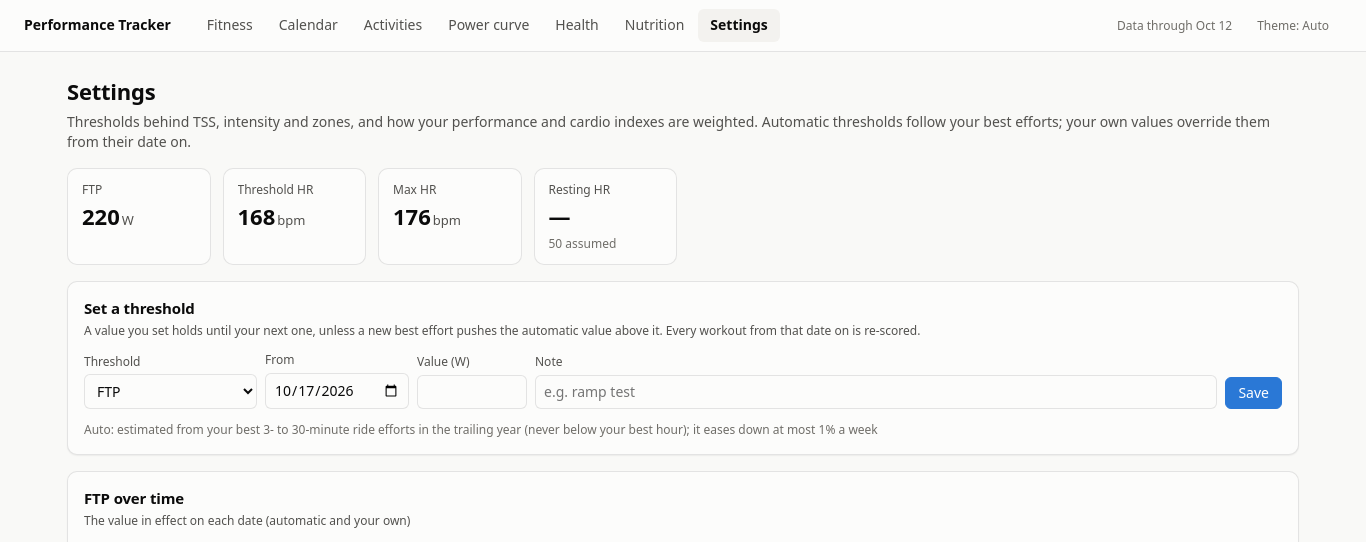
Test: saves a manual FTP as JSON and reports the re-scoring
The width and height of the screenshot is (1366, 542).
Type "235" into the number field labelled "Value (W)". click: (472, 392)
box: [417,375,527,409]
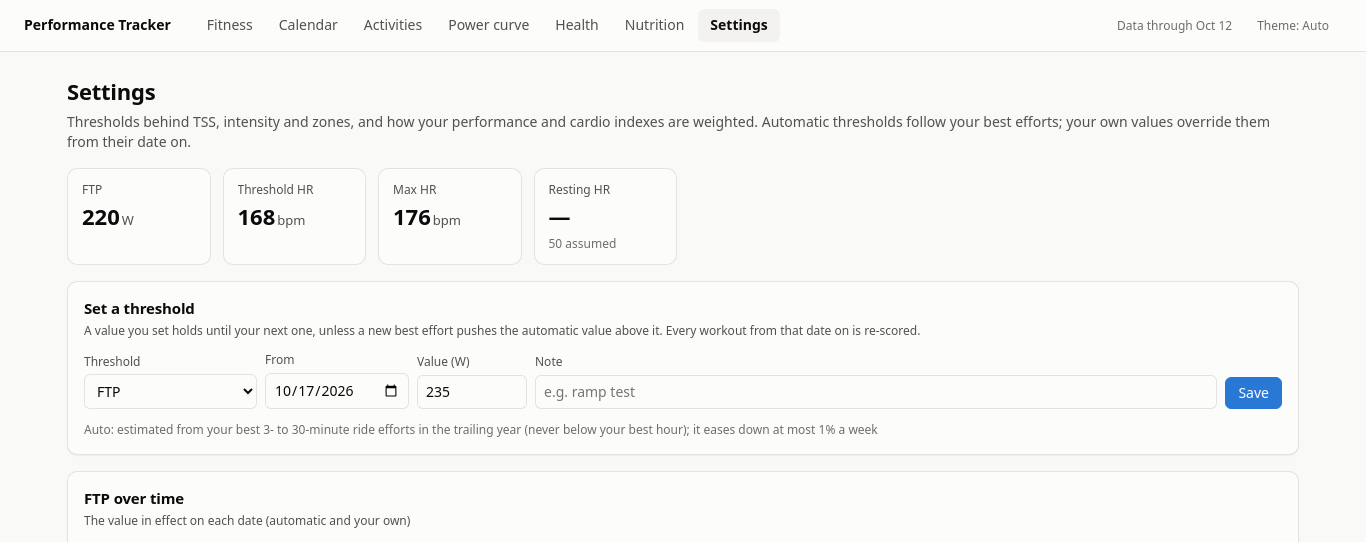
Type "ramp test" into the field labelled "Note". click: (876, 392)
box: [535,375,1217,409]
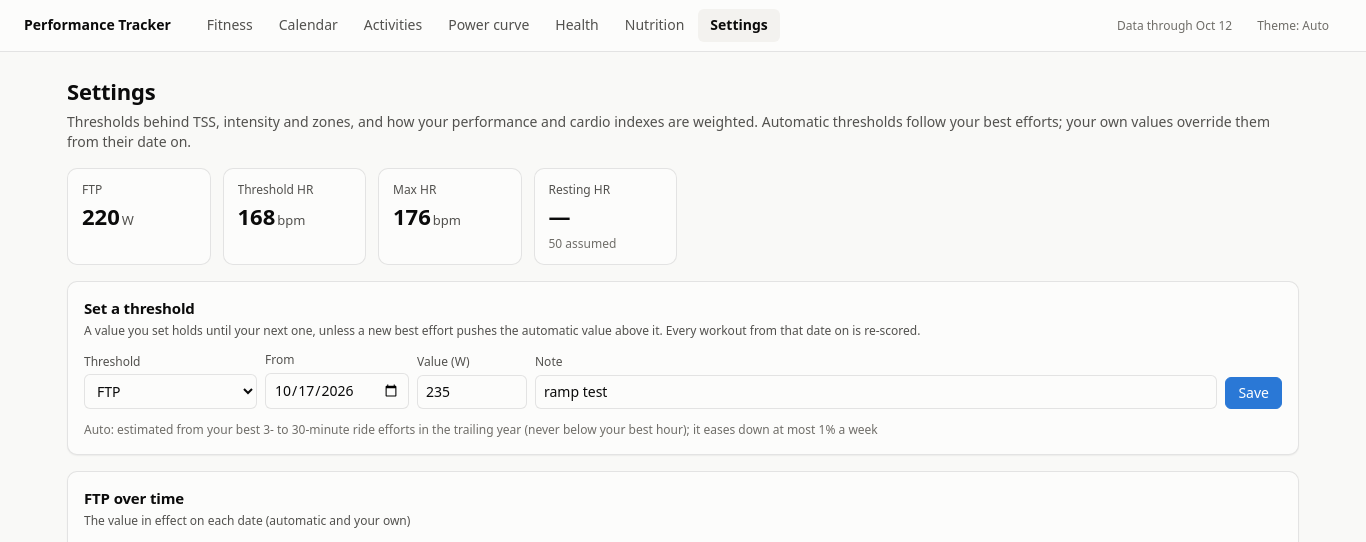
Click the button "Save". click: (1254, 393)
box: [1225,377,1282,409]
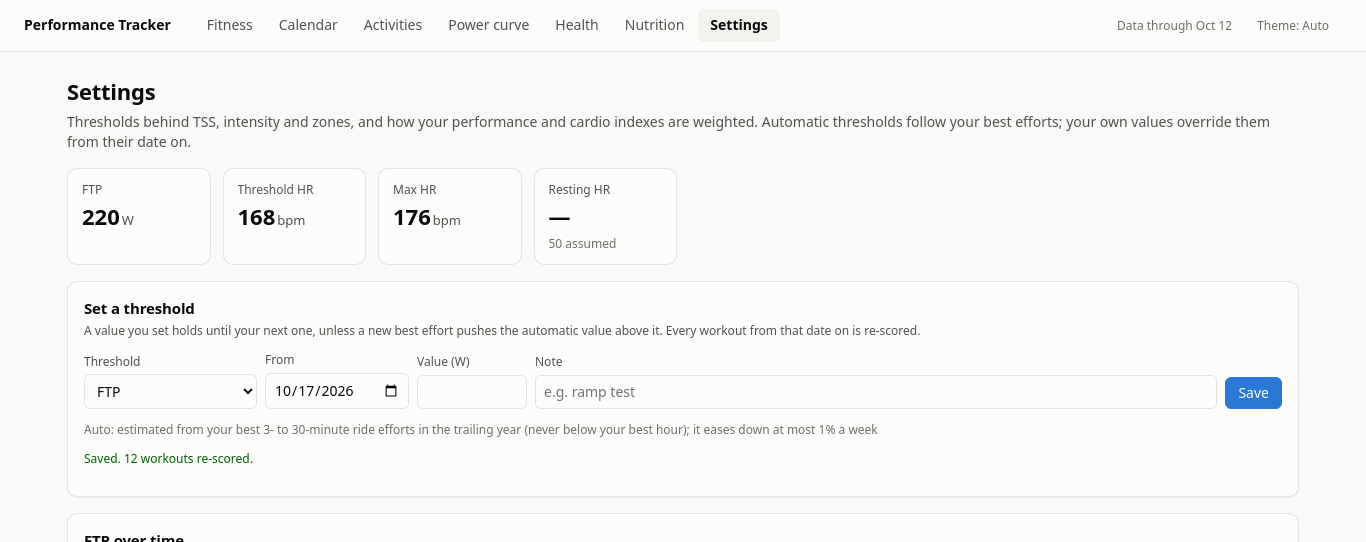
Expected: the text "Saved. 12 workouts re-scored." is shown, [84,450,253,467]
